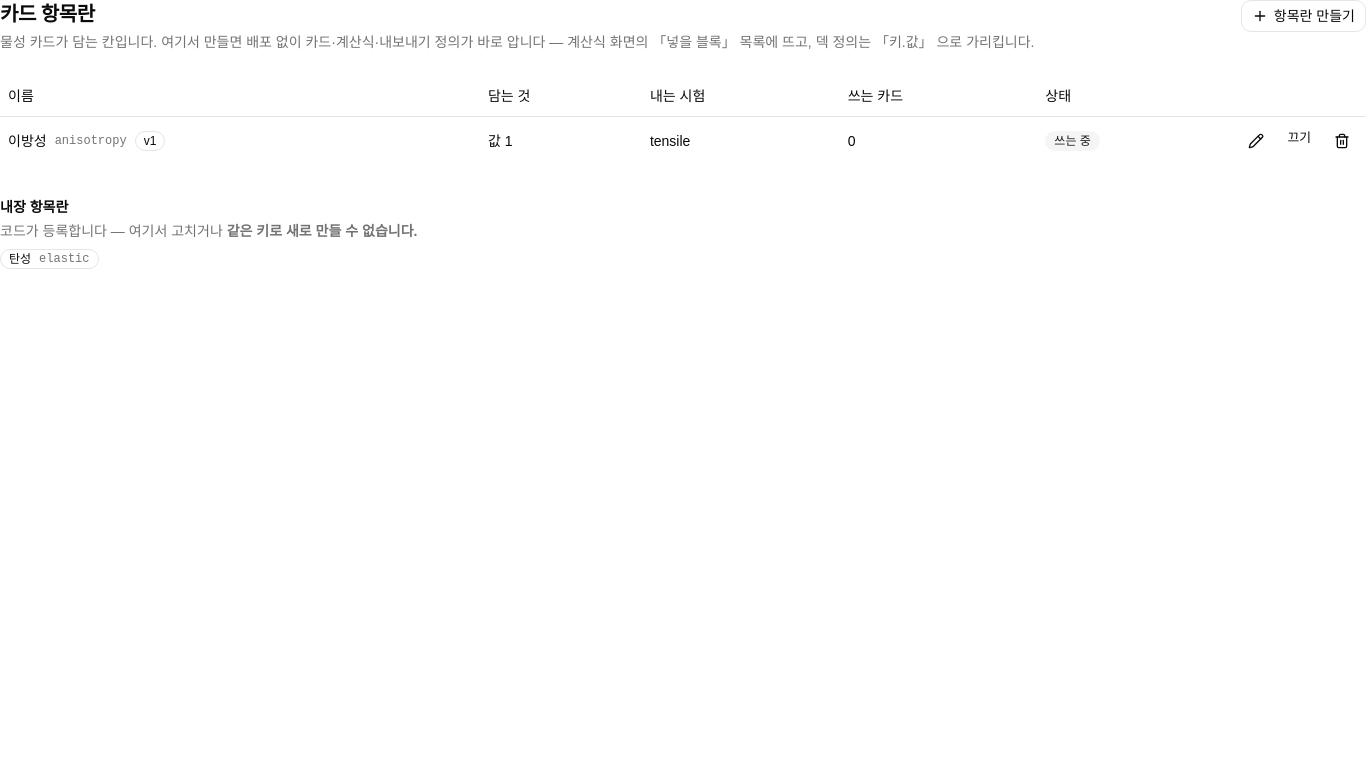
카드 항목란 › 고칠 때 키는 잠긴다 — 카드가 그 키로 값을 들고 있다
This screenshot has width=1366, height=768.
Click the button named "이방성 고치기" at {"x": 1256, "y": 140}, box [1240,124,1272,156]
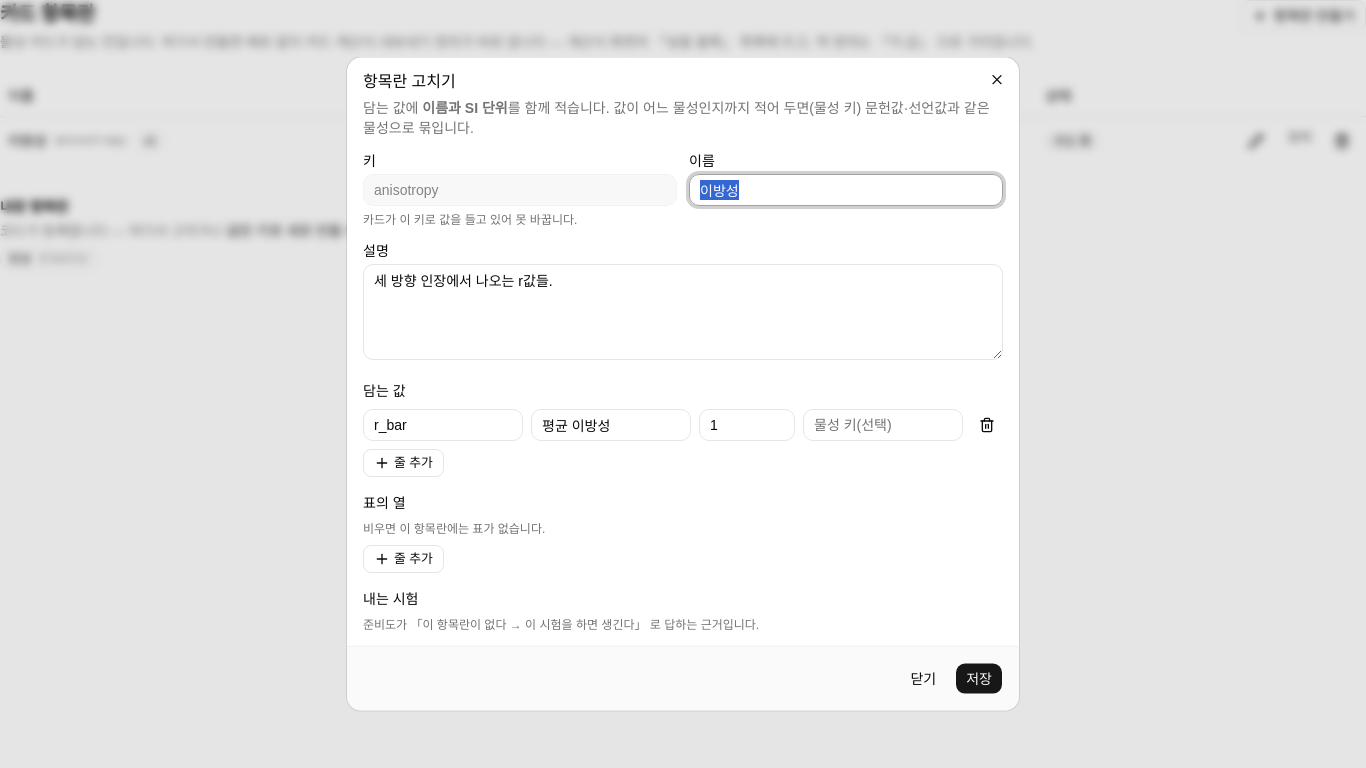
Expected: the field labelled "키" is disabled, [363,174,677,206]
Expected: the text "카드가 이 키로 값을 들고 있어 못 바꿉니다." is shown, [363,213,577,227]
